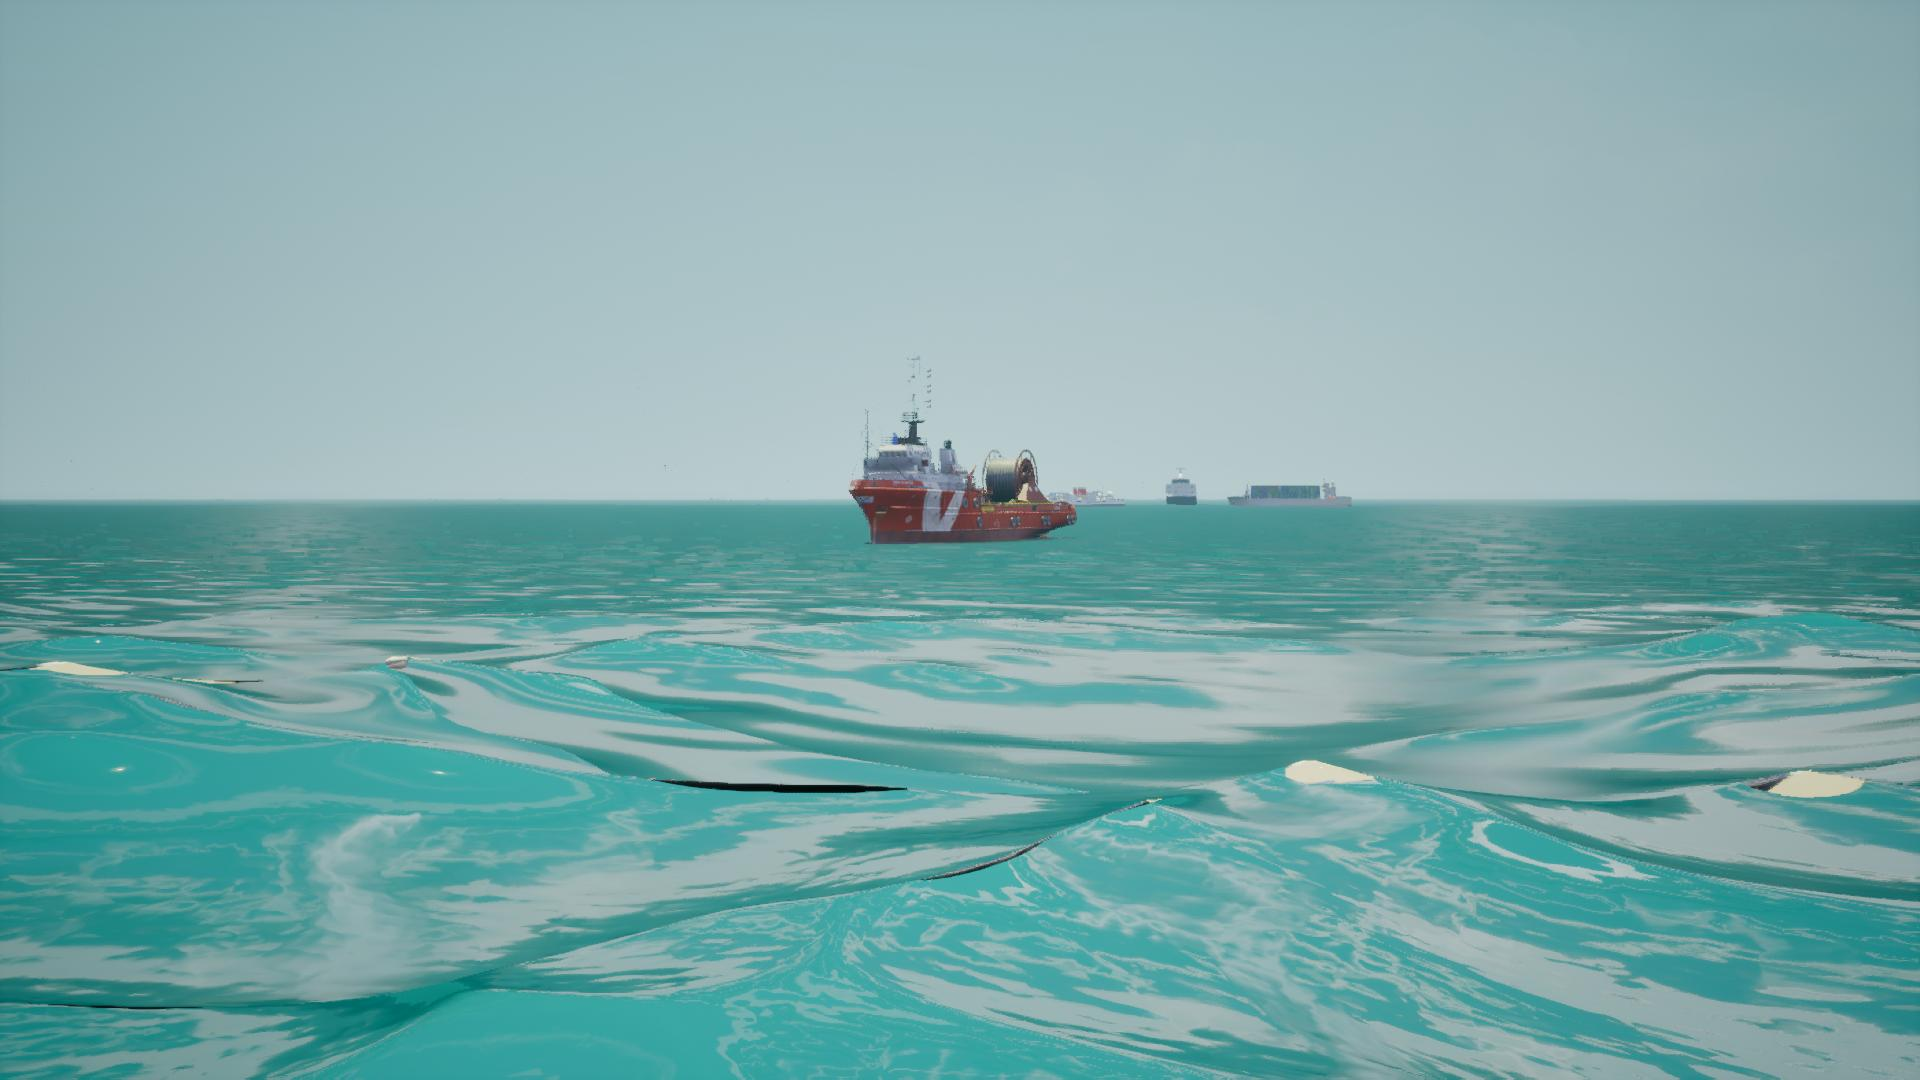Tug Boat: (845, 356, 1085, 547), (1228, 480, 1350, 508)
